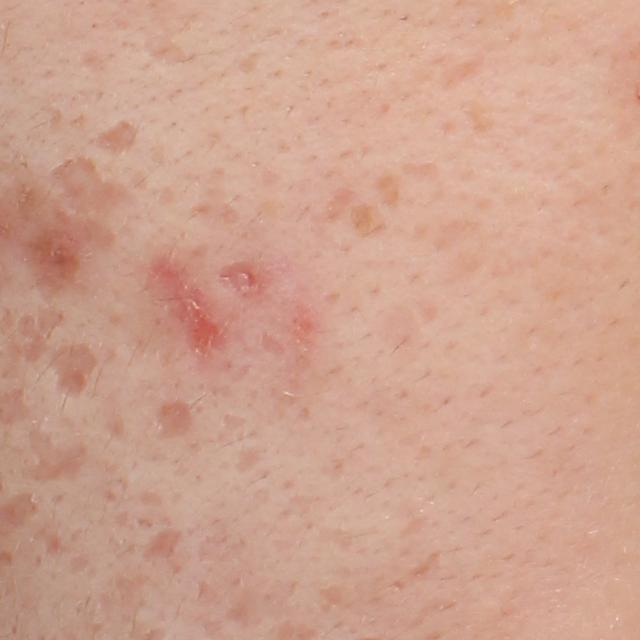atrophic_scar: (16, 427, 88, 484), (154, 400, 198, 442), (142, 31, 186, 71), (216, 259, 264, 295), (90, 119, 138, 153), (322, 182, 361, 223), (445, 53, 488, 87), (228, 589, 262, 631), (140, 529, 180, 564), (406, 547, 441, 584), (376, 170, 405, 213), (350, 198, 379, 240), (258, 325, 289, 363), (79, 49, 118, 77), (236, 444, 270, 473), (319, 581, 344, 616), (236, 47, 262, 75), (48, 106, 67, 138), (70, 111, 91, 133)
